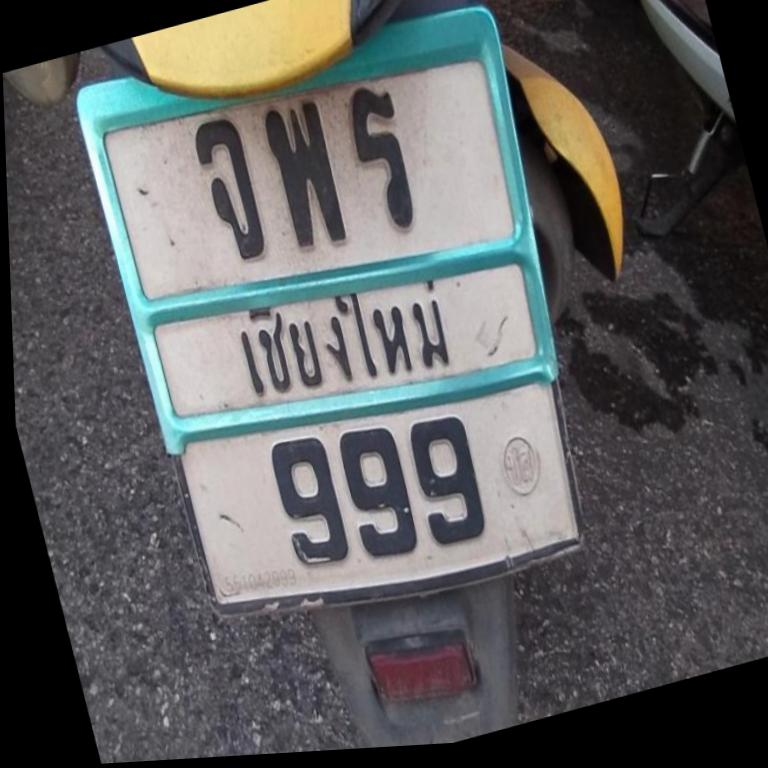license plate: (78, 7, 575, 614)
